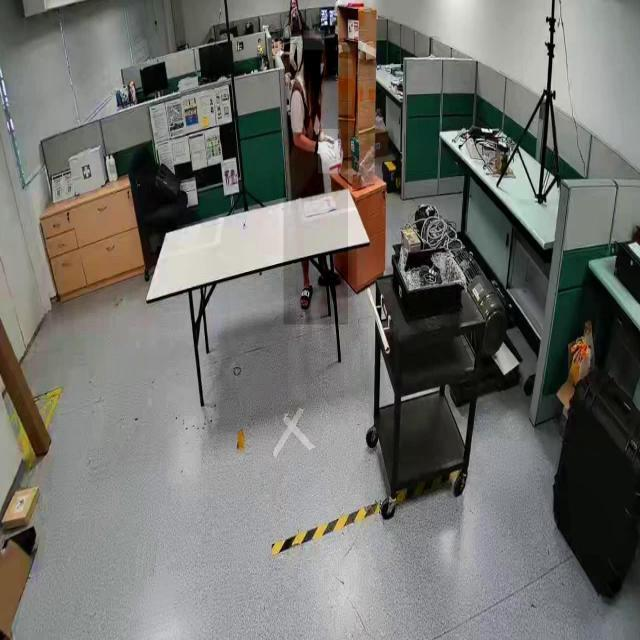gloves: (318, 128, 340, 174)
